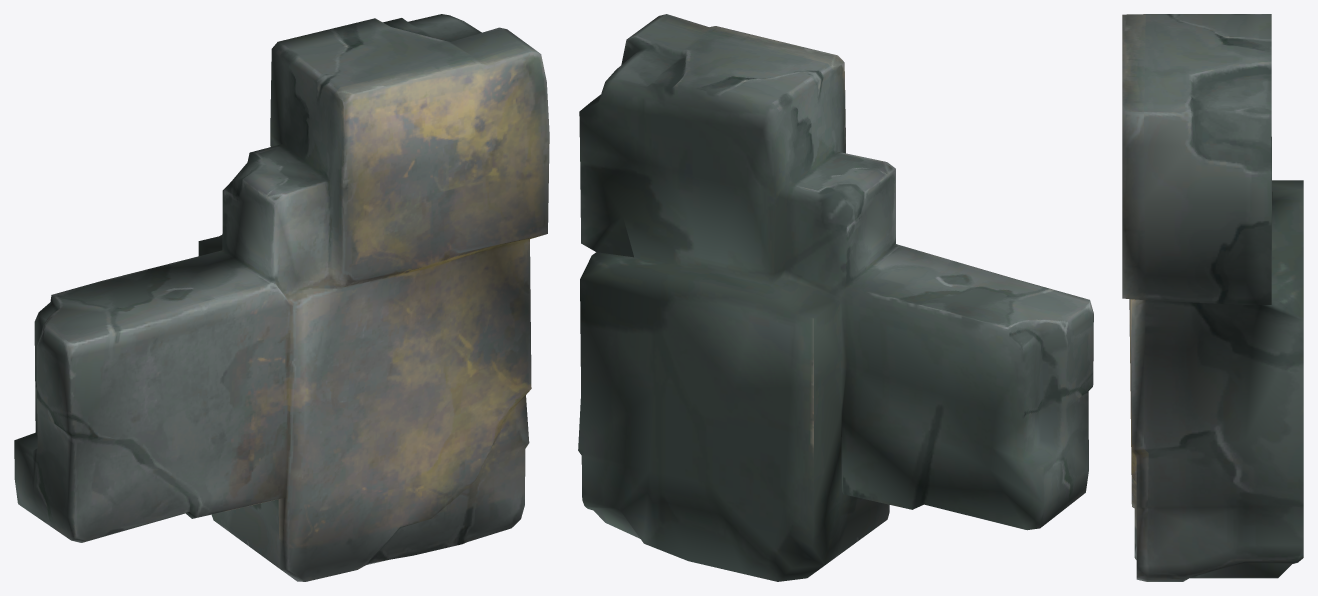
Rendered from Floor_Block_A.fbx.
The picture shows the model from 3 angles, left to right: view 1: azimuth 30°, elevation 25°; view 2: azimuth 150°, elevation 25°; view 3: azimuth 270°, elevation 25°; orthographic projection. The views are drawn at different scales.
Visible parts, largest first — view 1: Floor_Block_A; view 2: Floor_Block_A; view 3: Floor_Block_A.
Part boxes in pixels (x1,y1,x2,y2): Floor_Block_A: [14, 14, 549, 581]; Floor_Block_A: [578, 14, 1093, 581]; Floor_Block_A: [1122, 14, 1303, 581].
Bounding box in the file's own units: 1240 × 1202 × 404.
